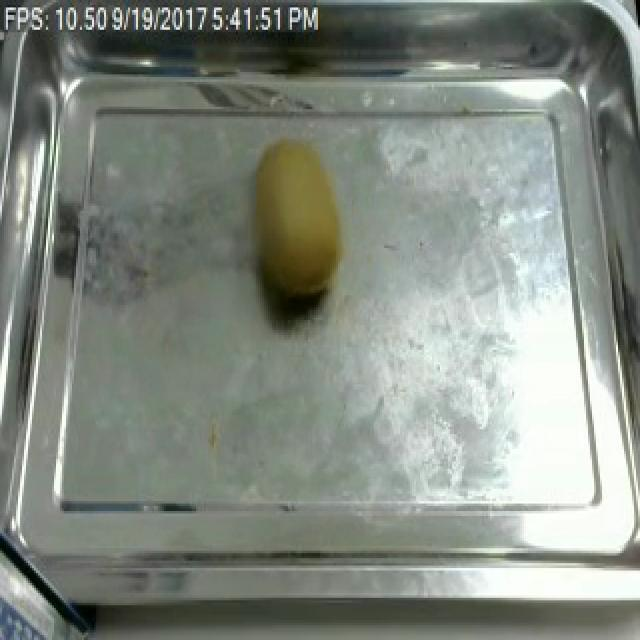Fruit: (240, 132, 356, 310)
